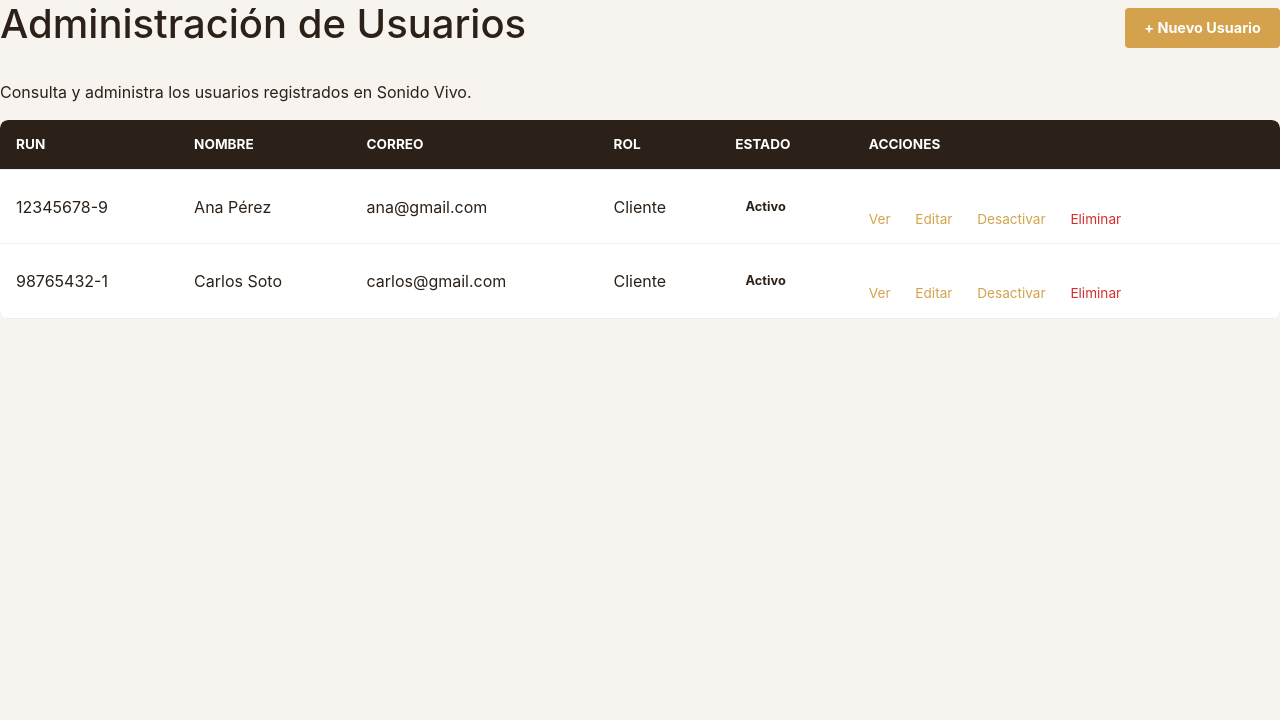
Test: Administración de usuarios › muestra el perfil correspondiente al usuario correcto
Click the button "Ver" in the row of "98765432-1" at (880, 293), box [869,283,890,303]
(page scrolled)
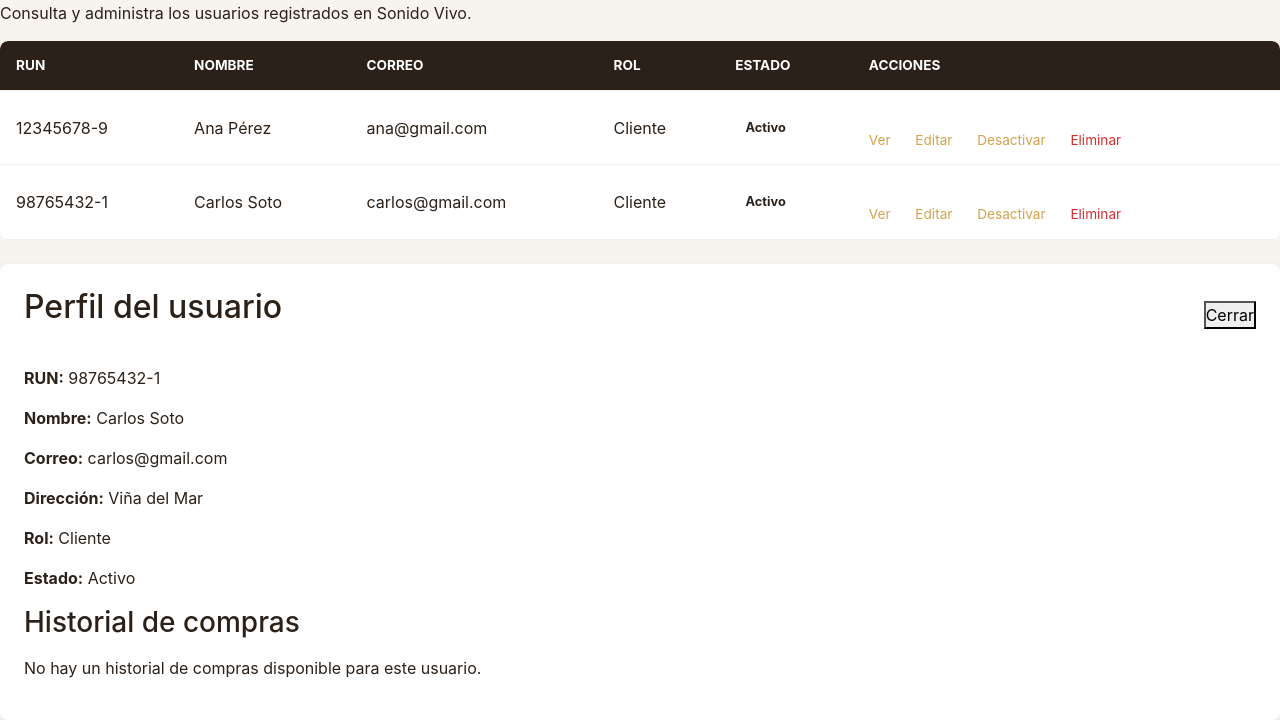
Expected: the element "Detalle del usuario" does not show "Ana Pérez"
Expected: the element named "Detalle del usuario" shows "Carlos Soto", [96,408,184,428]
Expected: the element named "Detalle del usuario" shows "carlos@gmail.com", [88,448,227,468]
